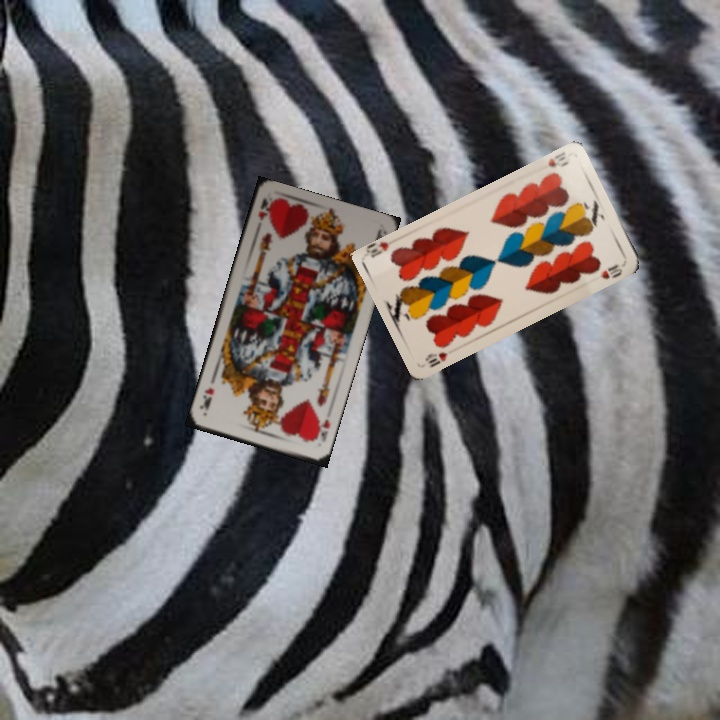H10: (421, 348, 450, 370), (544, 148, 572, 170)
HK: (309, 414, 332, 445), (254, 194, 275, 223)
